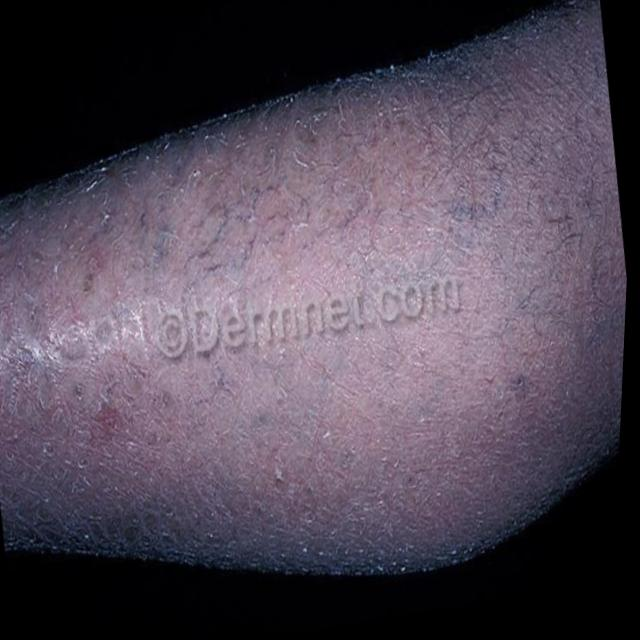liquenificacion 1: (0, 3, 626, 584)
